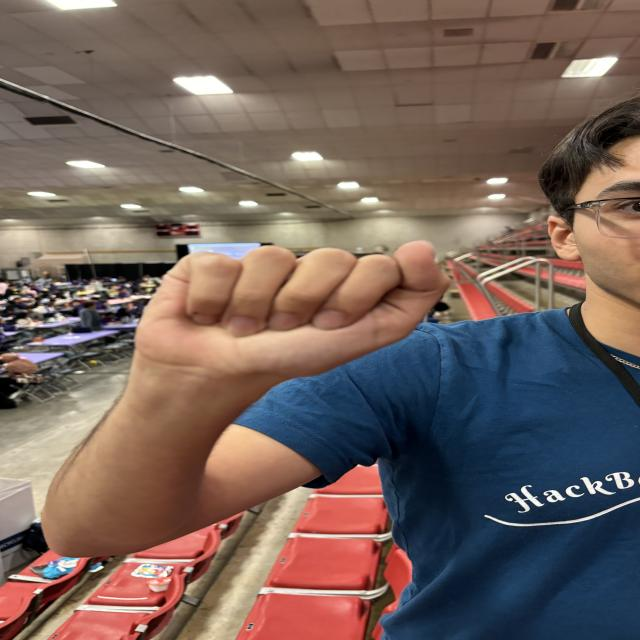A: (150, 239, 448, 380)
